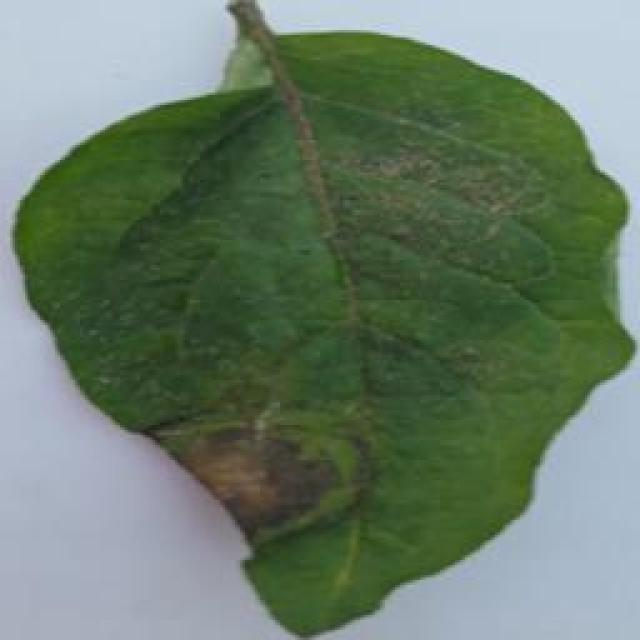Potato_Late_Blight: (12, 13, 626, 638)
